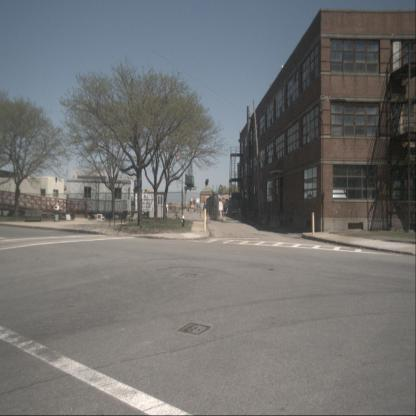barrier: (269, 216, 280, 230), (261, 213, 269, 225)
cone: (206, 212, 210, 221)
